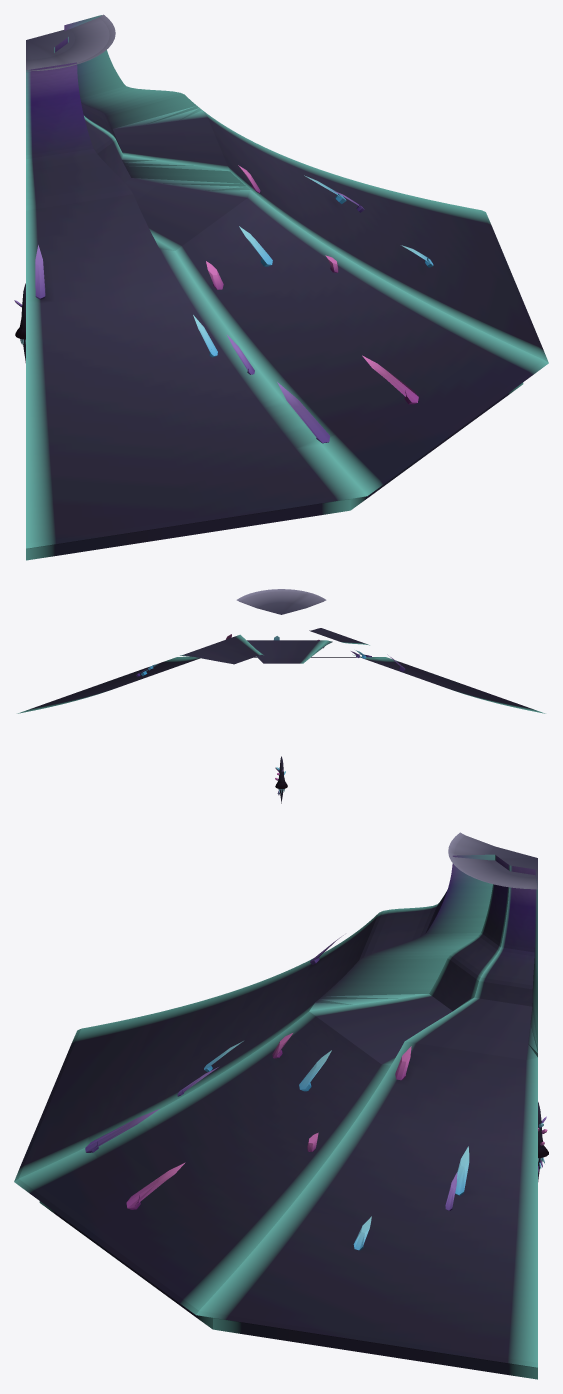
Rendered from caverns-s1-iV7-n7gw.glb.
3 renders of one model, top to bottom at view 1: azimuth 30°, elevation 25°; view 2: azimuth 150°, elevation 25°; view 3: azimuth 270°, elevation 25°, orthographic. The views are drawn at different scales.
Visible parts, largest first — view 1: sc_landmark_2; view 2: sc_landmark_2; view 3: sc_landmark_2.
Part boxes in pixels (bbox=[...]): sc_landmark_2: bbox=[26, 14, 548, 560]; sc_landmark_2: bbox=[17, 589, 545, 713]; sc_landmark_2: bbox=[14, 832, 537, 1379].
Bounding box in the file's own units: 648 × 298 × 435.
